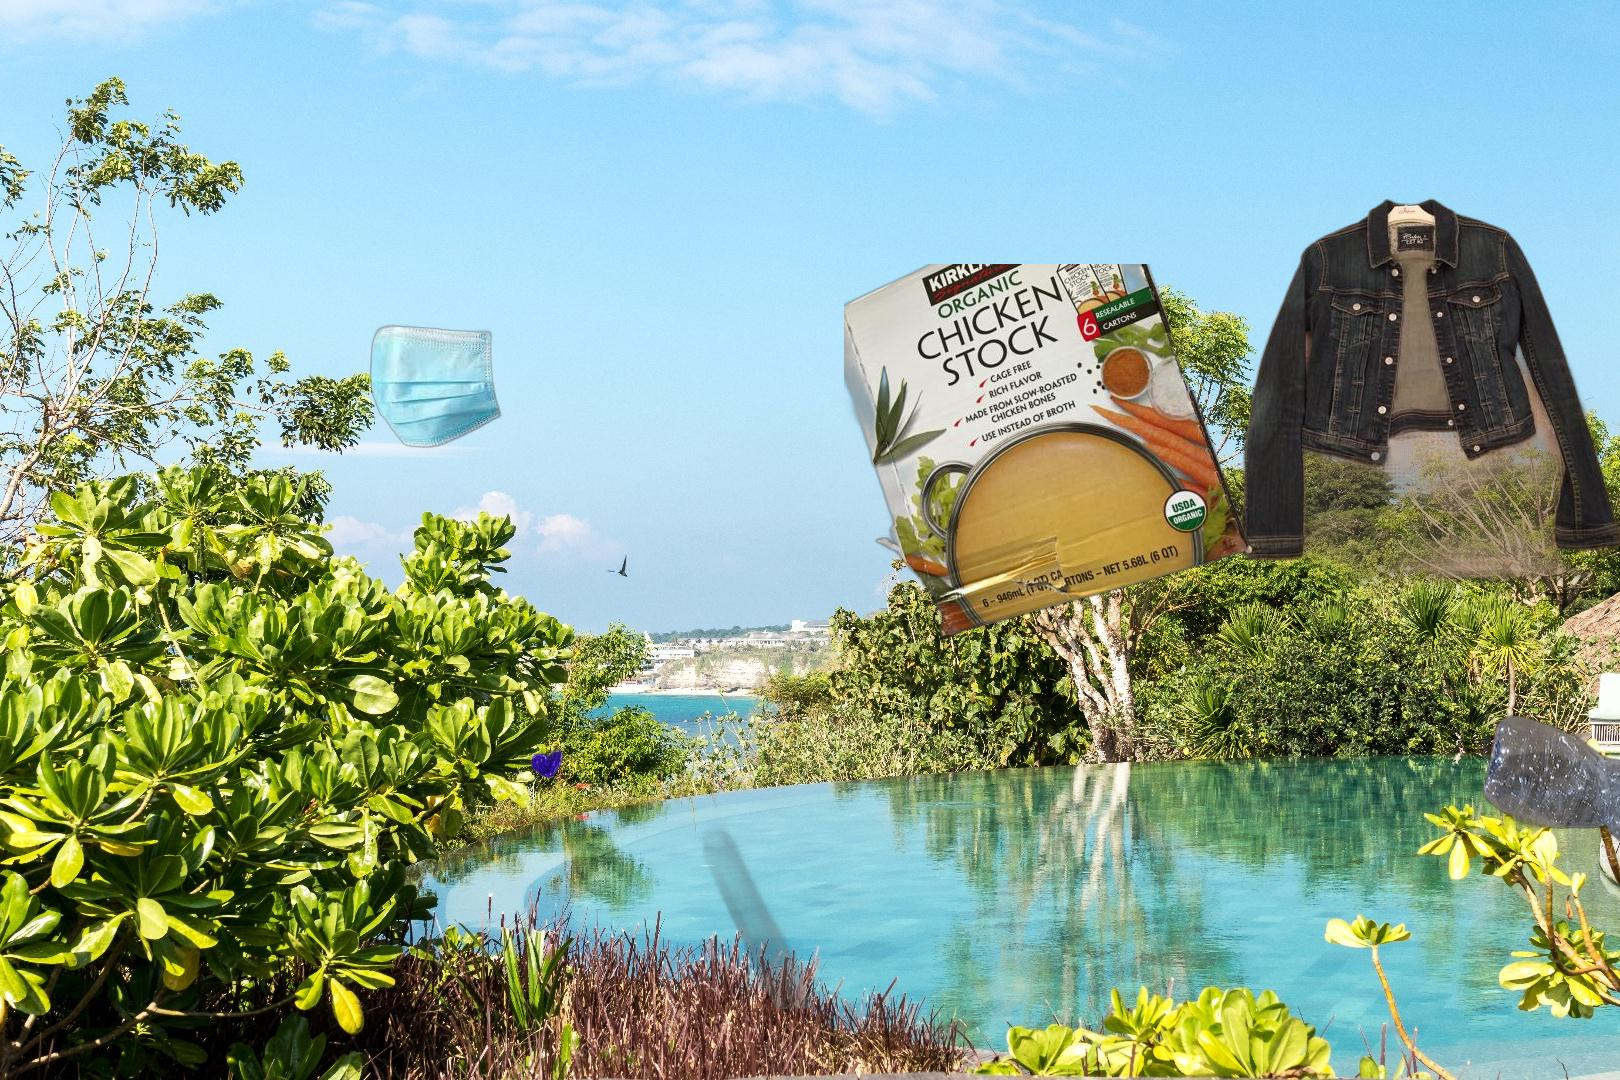clothes: (1167, 196, 1620, 589)
penholder: (529, 746, 844, 1009)
plastic-bottles: (1478, 712, 1620, 881)
trash: (368, 323, 504, 450)
trashbox-cardboard: (844, 264, 1254, 648)
